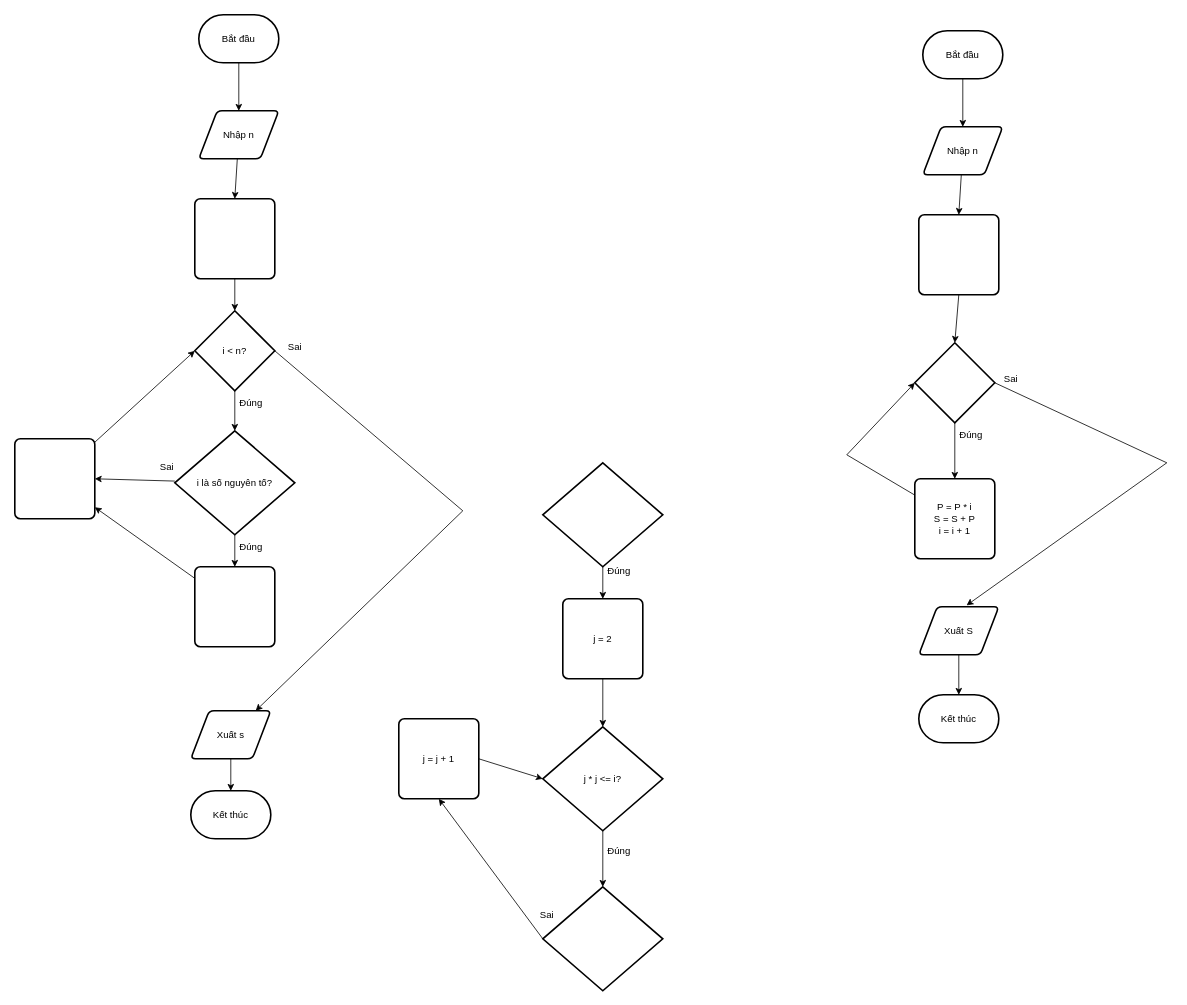
The diagram is 1187 pixels wide and 1005 high, and some of its shapes have lost their labels. Each missing label, with the box of its shape:
i % j == 0?: (542, 886, 663, 991)
i < 2?: (542, 462, 663, 567)
i <= n?: (914, 342, 995, 423)
i = i + 1: (14, 438, 95, 519)
s = 0 i = 2: (194, 198, 275, 279)
S = 0 P = 1 i = 1: (918, 214, 999, 295)
s = s + i: (194, 566, 275, 647)
